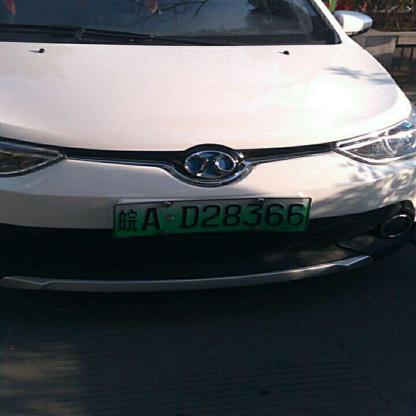lp: (115, 197, 309, 236)
